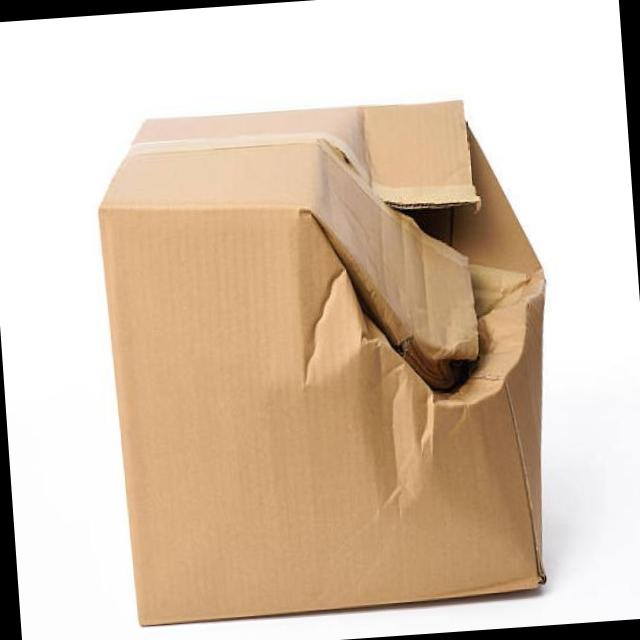box: (98, 100, 546, 626)
crushed: (283, 239, 532, 427)
